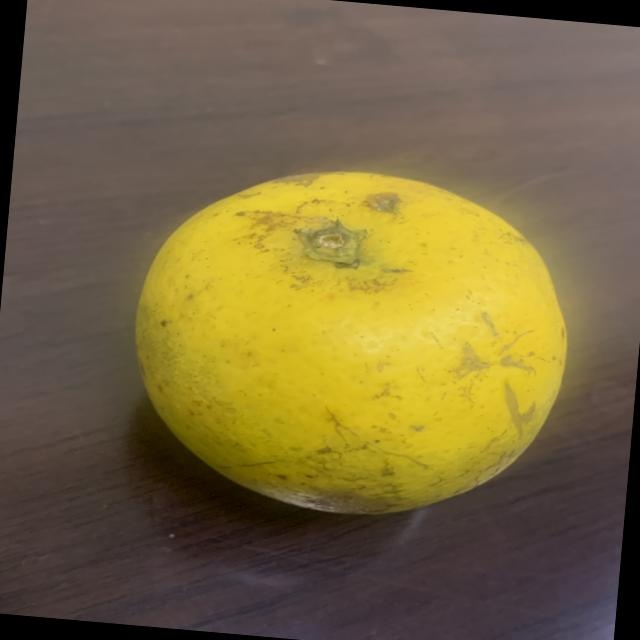agrume: (93, 135, 595, 537)
